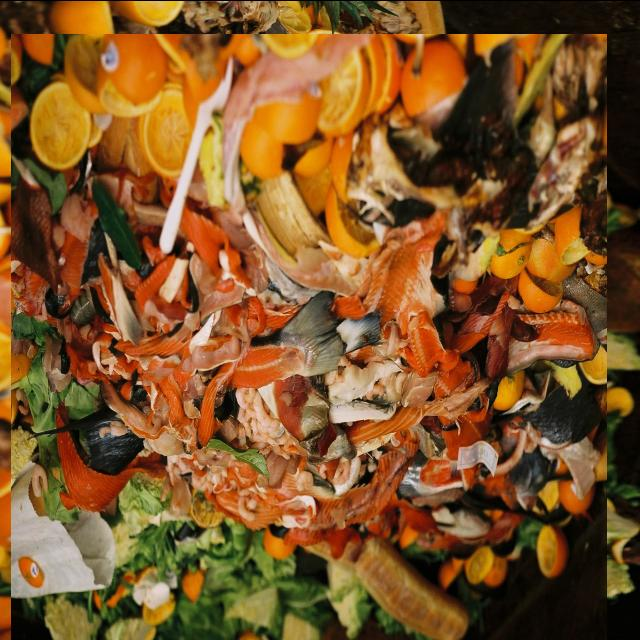garbage: (6, 38, 613, 640)
